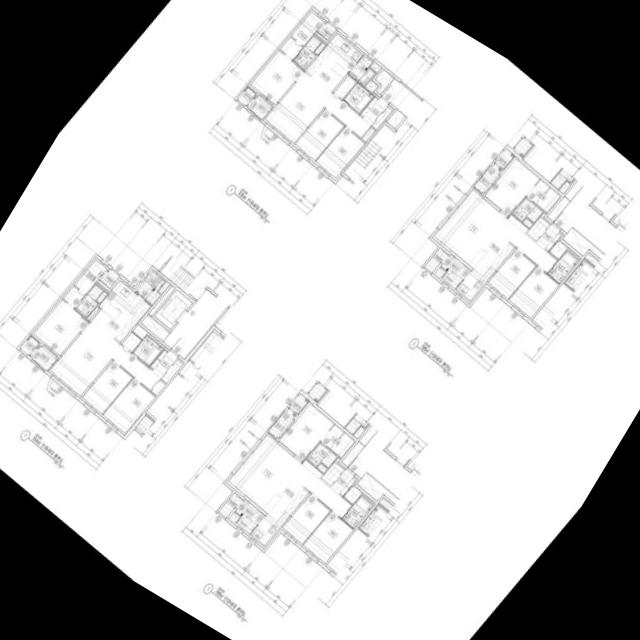background: (0, 0, 640, 640)
space_balconi: (235, 500, 265, 534), (135, 272, 165, 305), (441, 255, 470, 289), (268, 408, 296, 439), (474, 163, 502, 194), (349, 56, 375, 87), (29, 345, 56, 371), (246, 96, 272, 120)
space_bedroom: (484, 159, 540, 216), (279, 404, 334, 461), (33, 300, 88, 356), (250, 51, 303, 105), (103, 379, 155, 433), (82, 361, 132, 414), (303, 512, 353, 563), (295, 110, 344, 161), (509, 267, 558, 318), (316, 127, 364, 178), (488, 250, 536, 299), (282, 495, 330, 544)
space_dressroom: (63, 260, 106, 308), (280, 12, 323, 60), (526, 180, 560, 213), (321, 425, 354, 458)
space_elevator: (154, 290, 192, 330)
space_elevator_hall: (163, 290, 227, 359)
space_front: (149, 349, 178, 379), (360, 97, 389, 126), (536, 224, 562, 252), (330, 469, 356, 497)
space_kitchen: (250, 481, 310, 547), (456, 235, 515, 302), (93, 280, 151, 343), (306, 34, 363, 93)
space_living_room: (434, 190, 557, 273), (228, 435, 351, 518), (50, 320, 161, 396), (265, 72, 371, 143)
space_other: (148, 286, 175, 316), (140, 315, 170, 342), (218, 493, 243, 518), (424, 248, 448, 273), (547, 196, 570, 222), (341, 442, 364, 467), (526, 217, 549, 241), (334, 76, 356, 100), (321, 462, 343, 486), (161, 360, 182, 384), (375, 70, 394, 95), (372, 107, 392, 130), (99, 270, 119, 289), (121, 333, 141, 352), (317, 22, 336, 41), (386, 110, 405, 129), (549, 241, 567, 260), (344, 487, 361, 505), (151, 381, 165, 396), (361, 128, 375, 142), (87, 307, 99, 321), (365, 81, 376, 93), (314, 43, 325, 55), (96, 292, 107, 303), (158, 283, 169, 294), (369, 63, 380, 73), (229, 513, 239, 523), (435, 268, 445, 278), (317, 464, 327, 473), (523, 219, 533, 228)
space_outdoor_room: (494, 149, 515, 170), (289, 394, 309, 415), (19, 336, 39, 356), (237, 87, 256, 106)
space_toilet: (547, 251, 579, 284), (342, 496, 373, 529), (132, 336, 163, 367), (343, 83, 374, 114), (293, 36, 321, 70), (75, 284, 103, 318), (306, 443, 337, 468), (512, 198, 543, 223)
